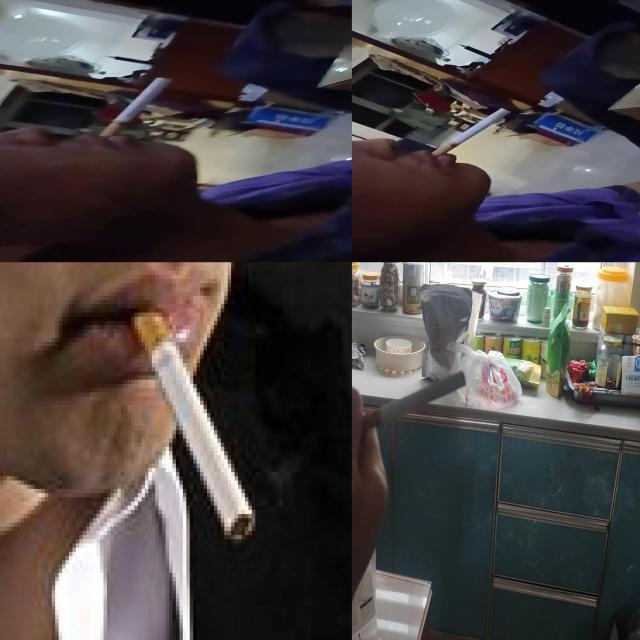smoking: (122, 291, 255, 542), (352, 370, 468, 438), (99, 76, 174, 138), (430, 107, 513, 157)
